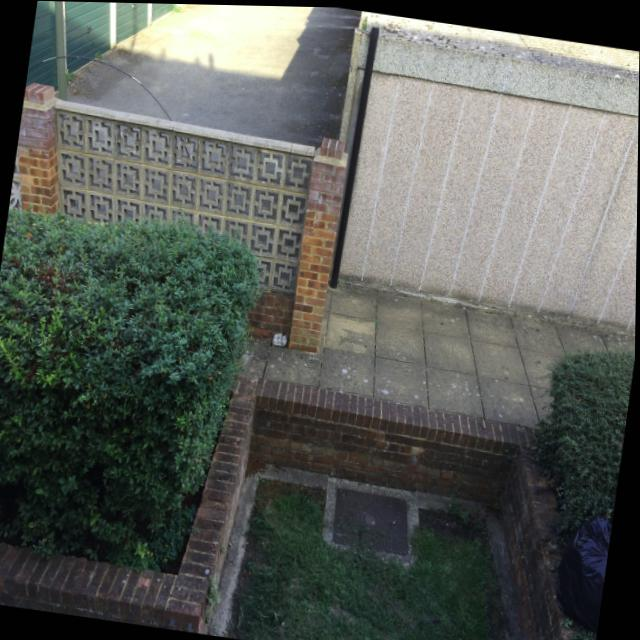Cardboard: (271, 328, 290, 348)
Plastic: (548, 504, 615, 634)
